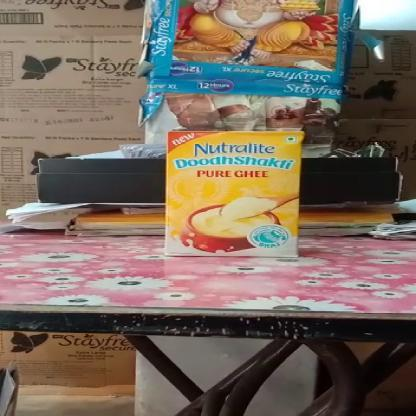Nutralite DOODHSHAKTHI PURE GHEE 1L: (168, 131, 299, 255)
